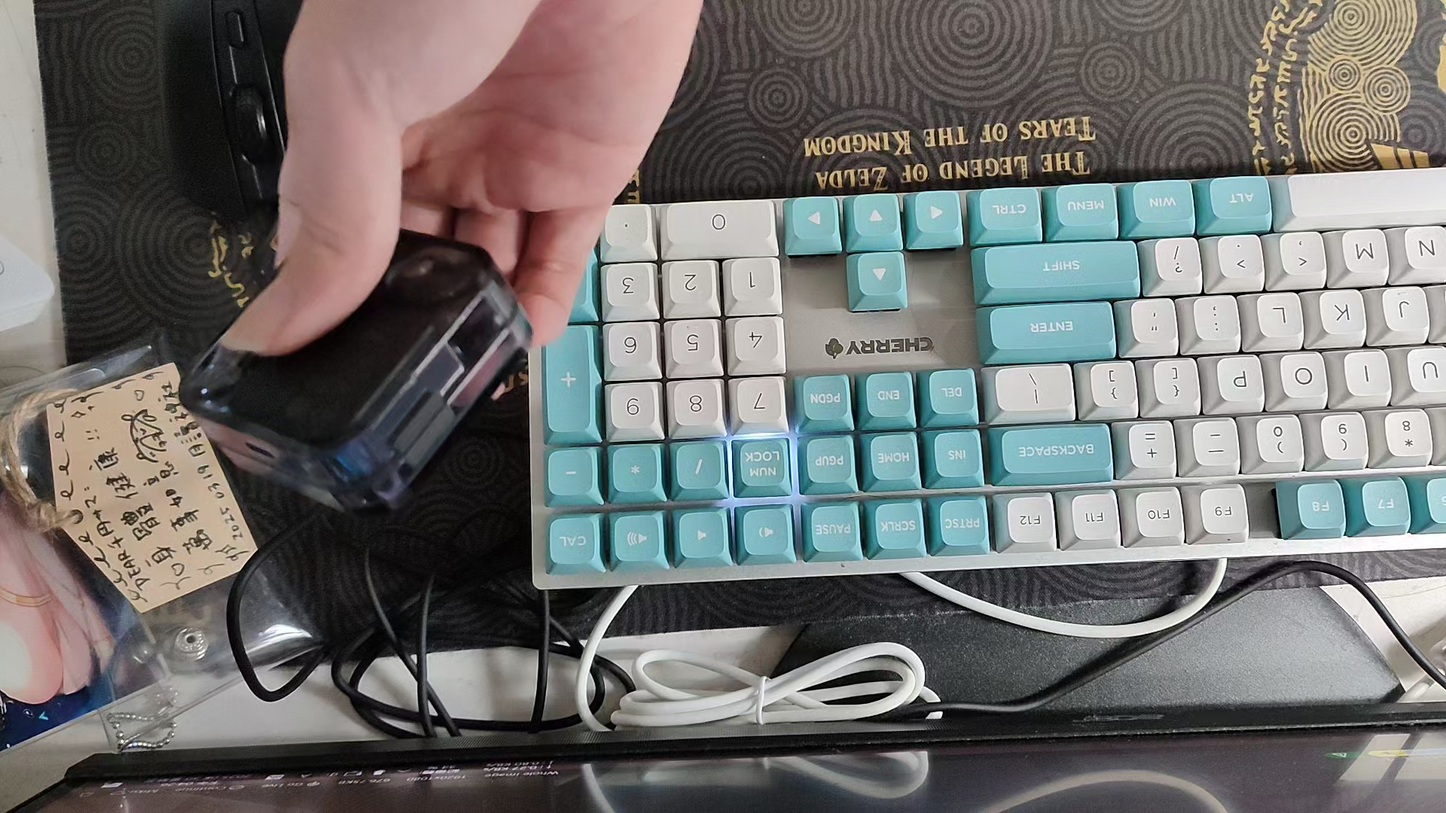Wireless_earphone: (175, 216, 533, 514)
